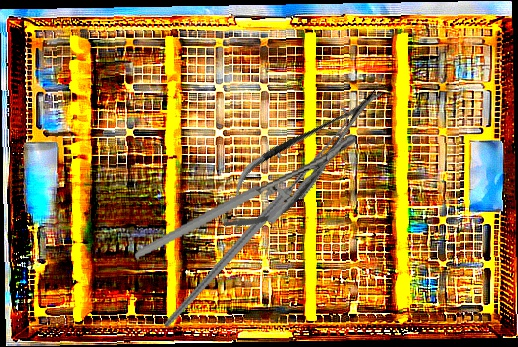Hook Surgical: (117, 107, 393, 328)
Micro Scissor: (202, 67, 404, 251)
Needle Holder: (121, 131, 370, 259)
